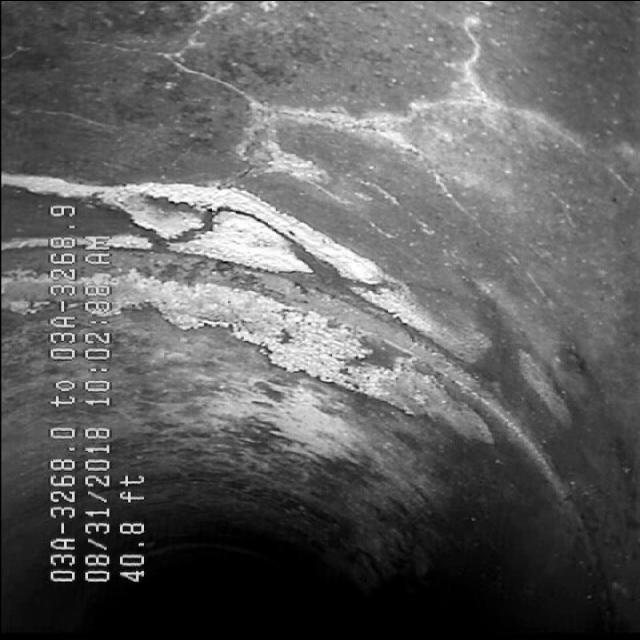Crack: (209, 57, 495, 201)
